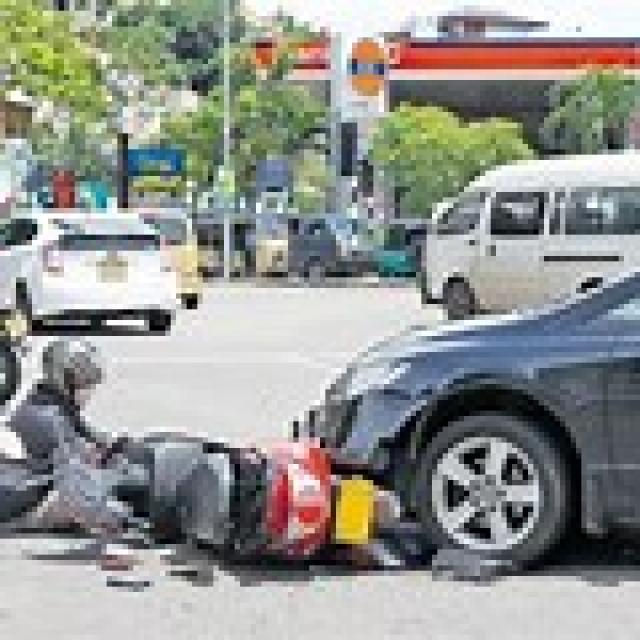multiple_accident: (300, 227, 640, 588), (10, 329, 432, 577)
